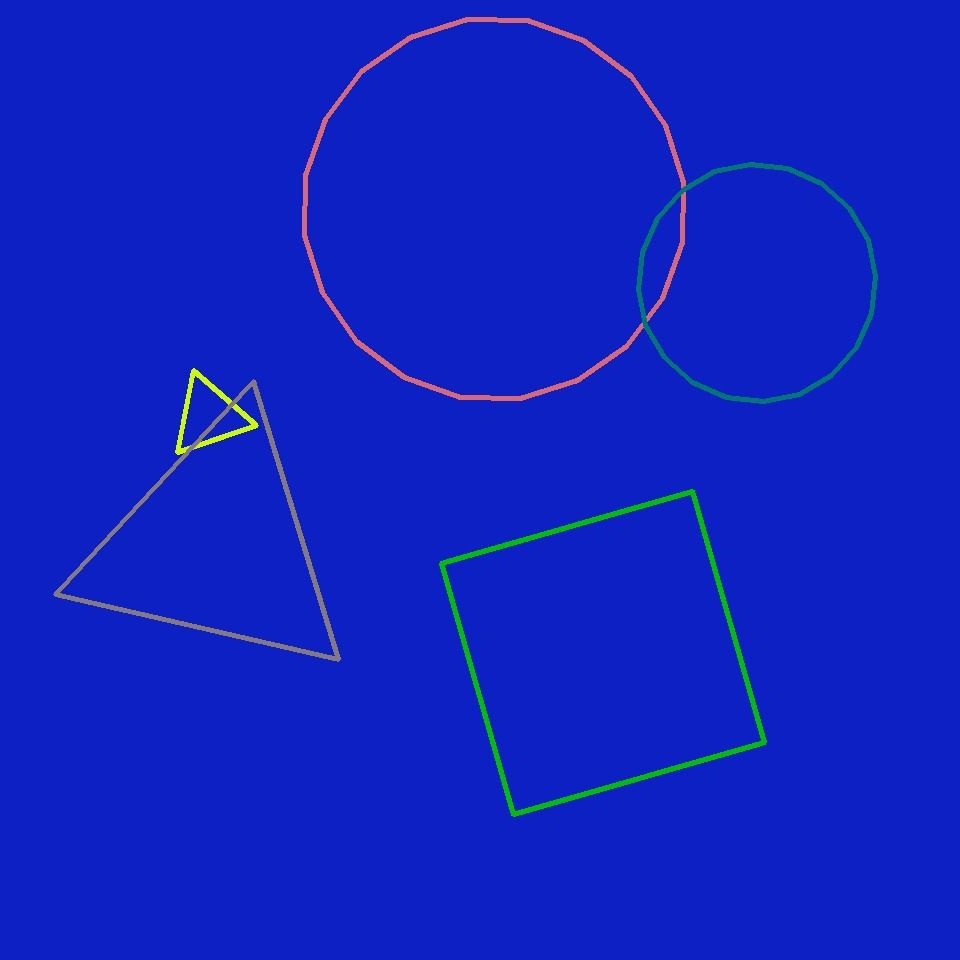circle: (74, 406, 358, 684), (170, 375, 248, 457)
square: (442, 492, 764, 814)
triangle: (304, 20, 684, 398), (638, 164, 876, 402)
